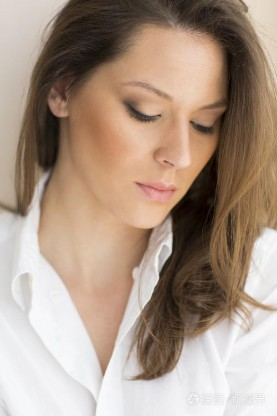闭眼: (123, 97, 161, 126), (188, 111, 221, 135)
